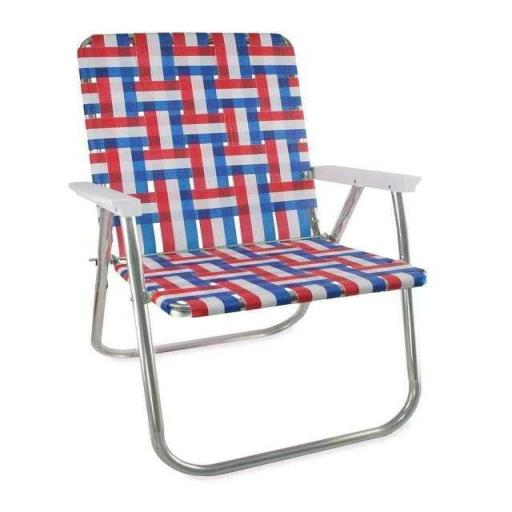chair: (63, 22, 431, 480)
